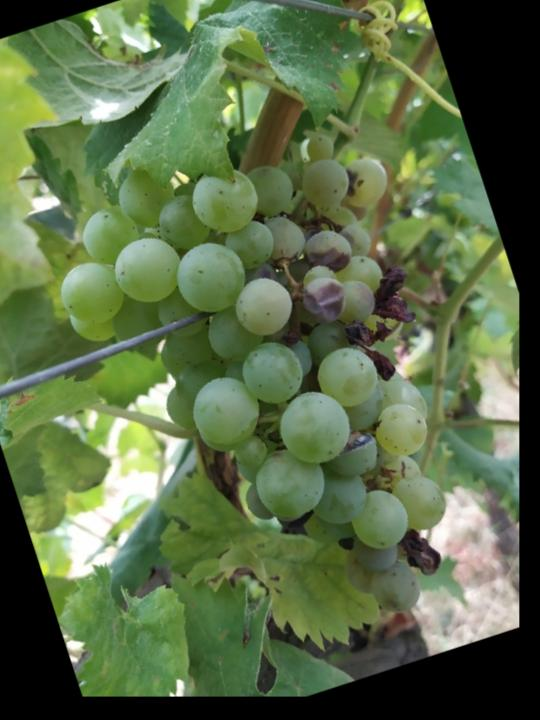grape: (26, 92, 520, 686)
